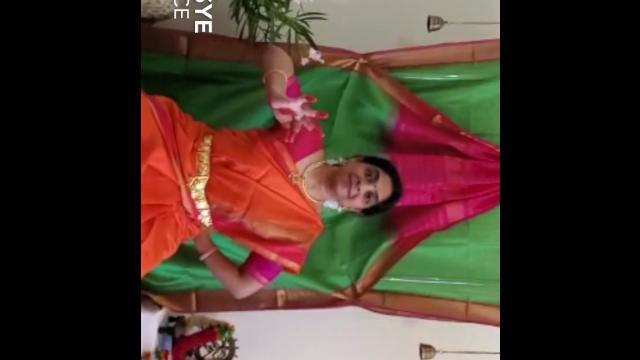hansaasya: (250, 87, 340, 157)
